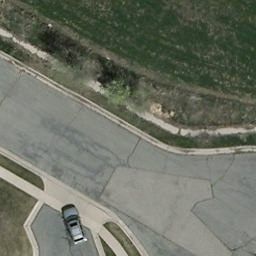car: (62, 206, 88, 245)
